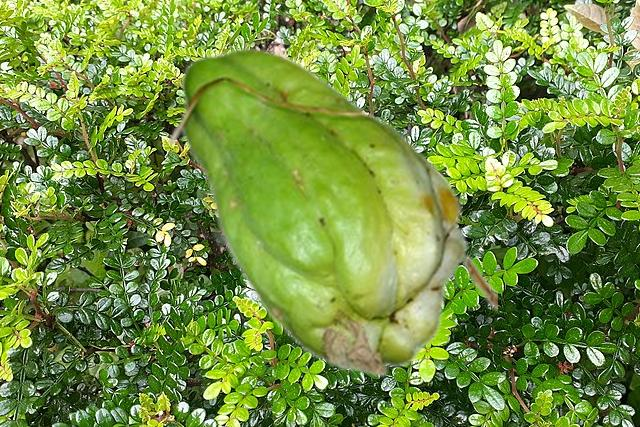sayote: (165, 46, 496, 377)
